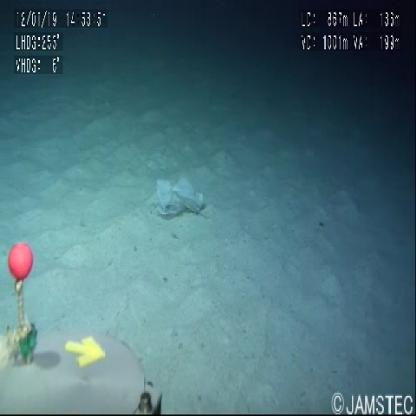Rác: (147, 165, 224, 222)
